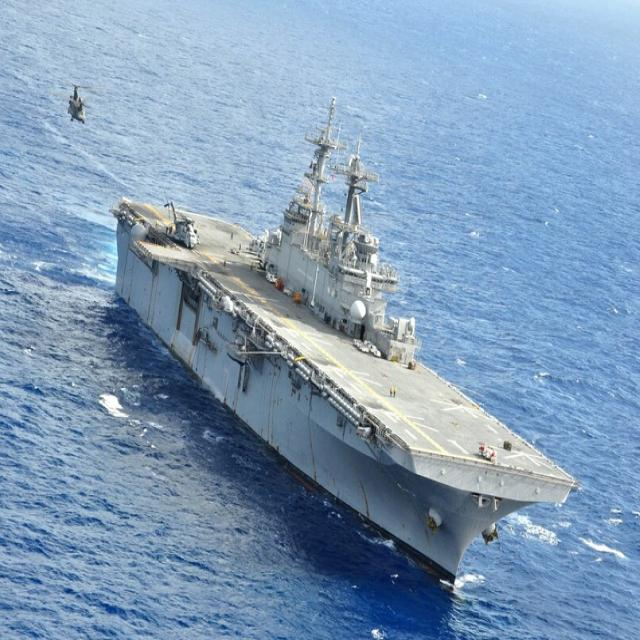navalvessels: (98, 0, 560, 605)
